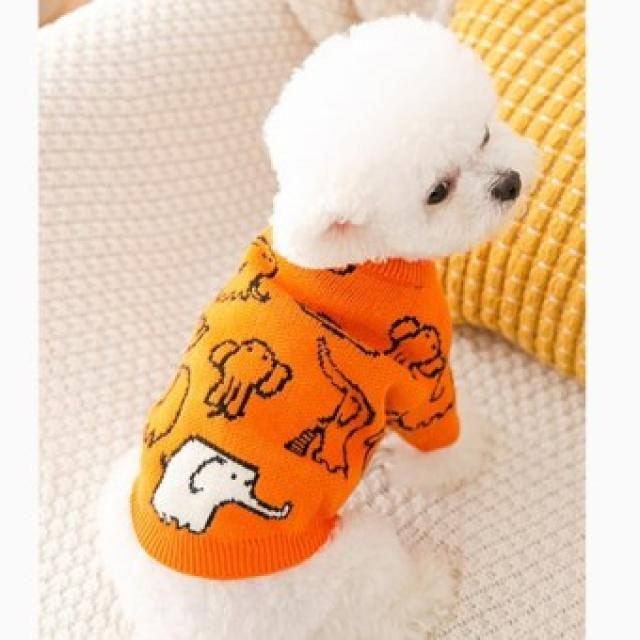cloth: (127, 230, 455, 576)
